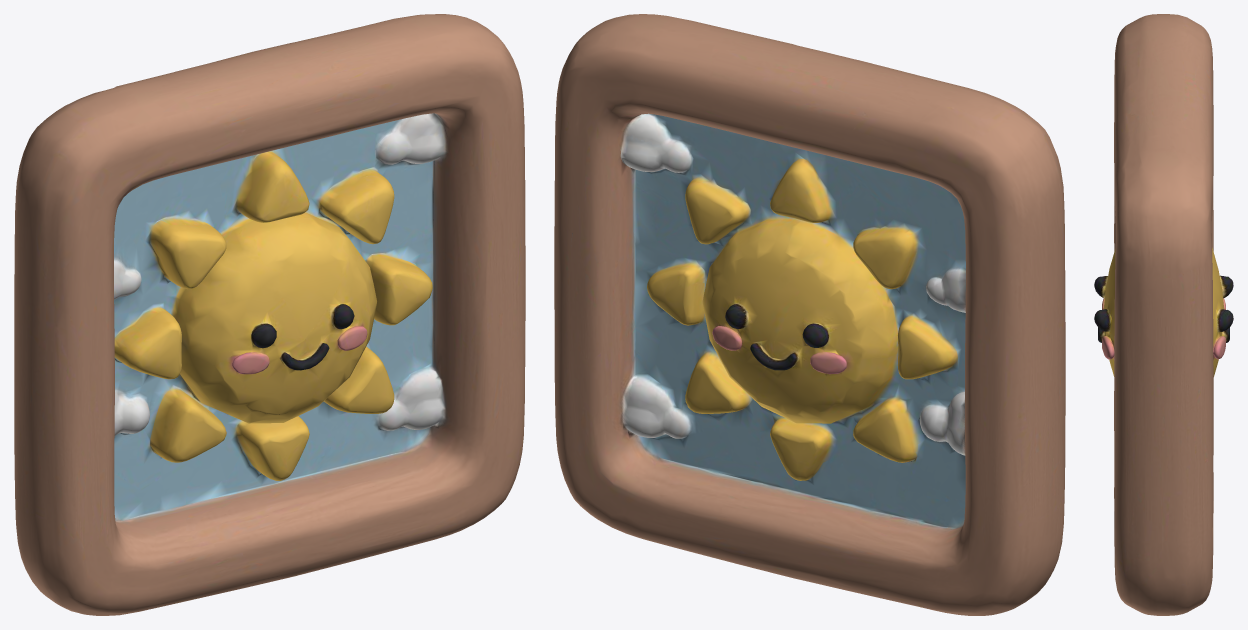
The model's file is wall_picture.glb.
The picture shows the model from 3 angles, left to right: view 1: azimuth 30°, elevation 25°; view 2: azimuth 150°, elevation 25°; view 3: azimuth 270°, elevation 25°; orthographic projection. The views are drawn at different scales.
Parts seen in each view (by area): view 1: tripo_node_49b712c9-9c6a-4a3c-af94-c21ce37ef129; view 2: tripo_node_49b712c9-9c6a-4a3c-af94-c21ce37ef129; view 3: tripo_node_49b712c9-9c6a-4a3c-af94-c21ce37ef129.
Part boxes in pixels (x1,y1,x2,y2): tripo_node_49b712c9-9c6a-4a3c-af94-c21ce37ef129: [14, 14, 525, 615]; tripo_node_49b712c9-9c6a-4a3c-af94-c21ce37ef129: [554, 14, 1065, 615]; tripo_node_49b712c9-9c6a-4a3c-af94-c21ce37ef129: [1094, 14, 1233, 615].
Size of the model in its own units: 0.9807 by 0.9803 by 0.2741.
1 material, 1 textured.
